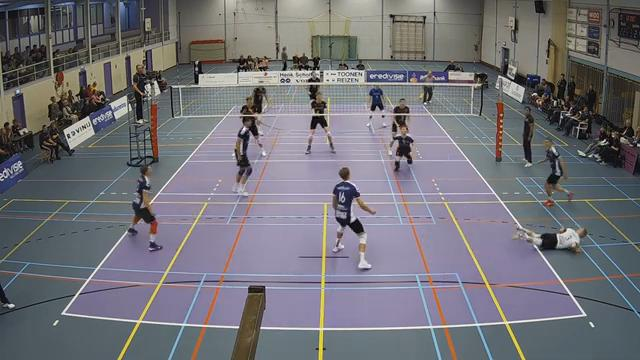difesa: (511, 217, 590, 256)
